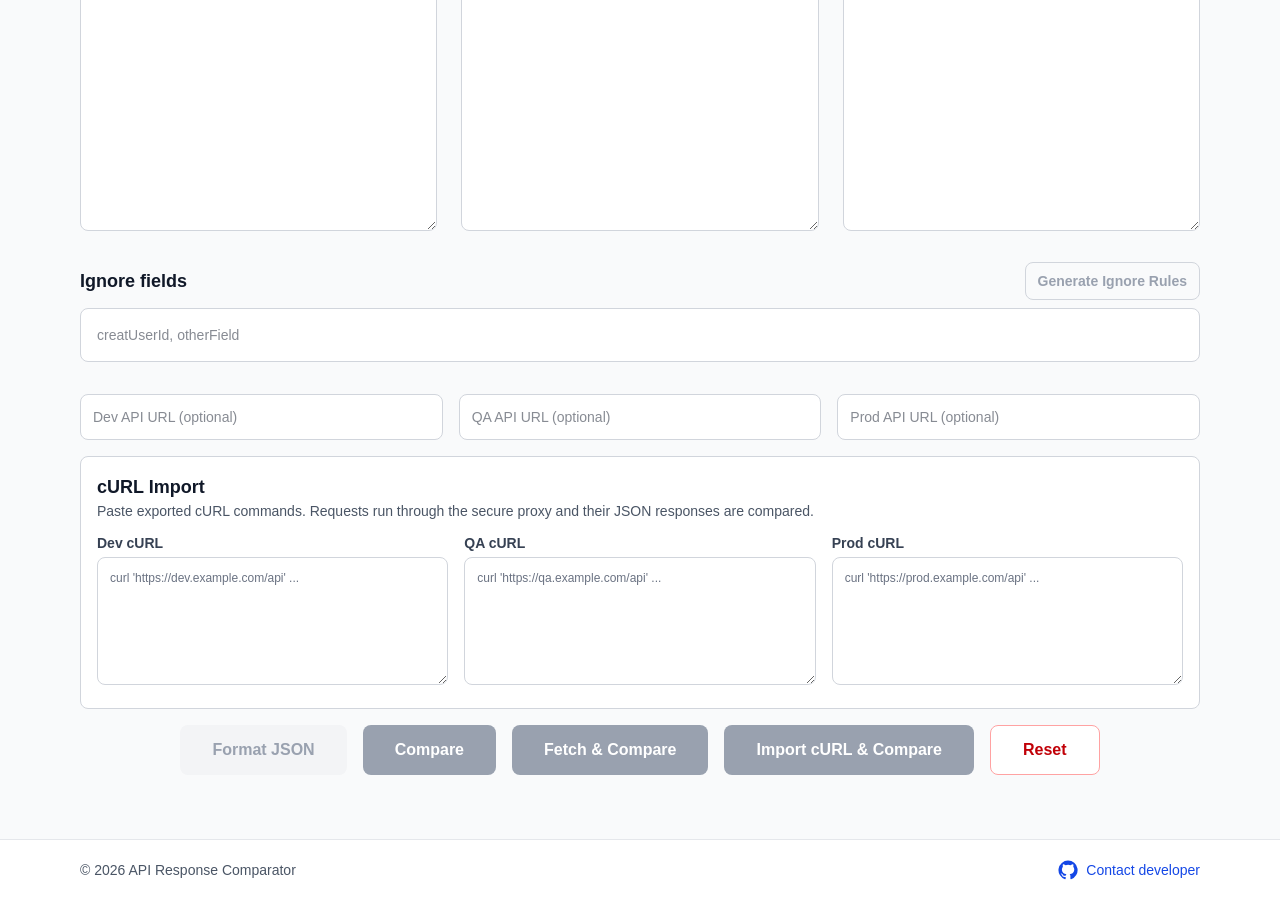
Test: Home › clears cURL input independently
This screenshot has width=1280, height=900.
(page scrolled)
Type "curl 'https://dev.test'" into the text box labelled "Dev cURL" at {"x": 273, "y": 621}, box [97,557,448,685]
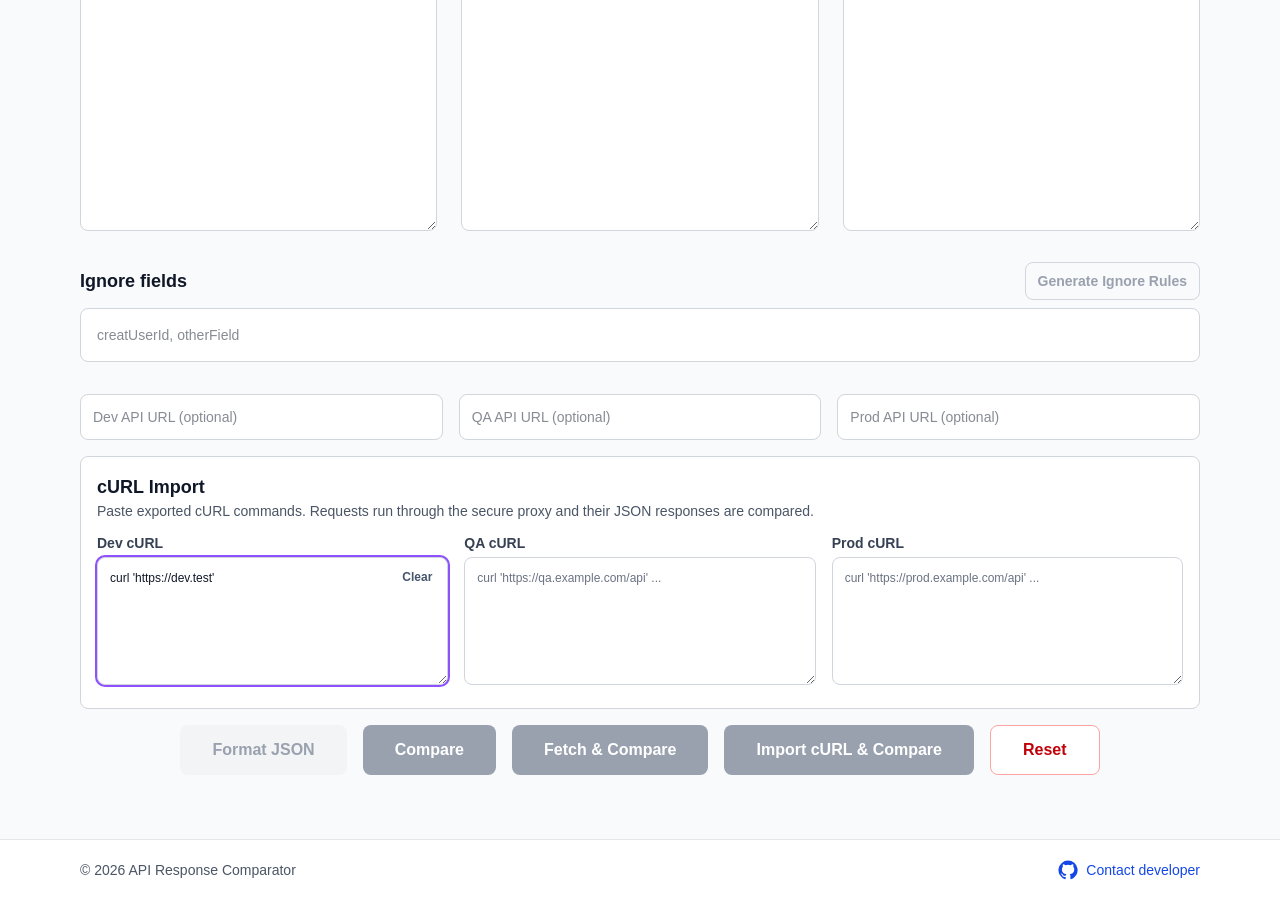
Type "curl 'https://qa.test'" into the text box labelled "QA cURL" at {"x": 640, "y": 621}, box [464,557,816,685]
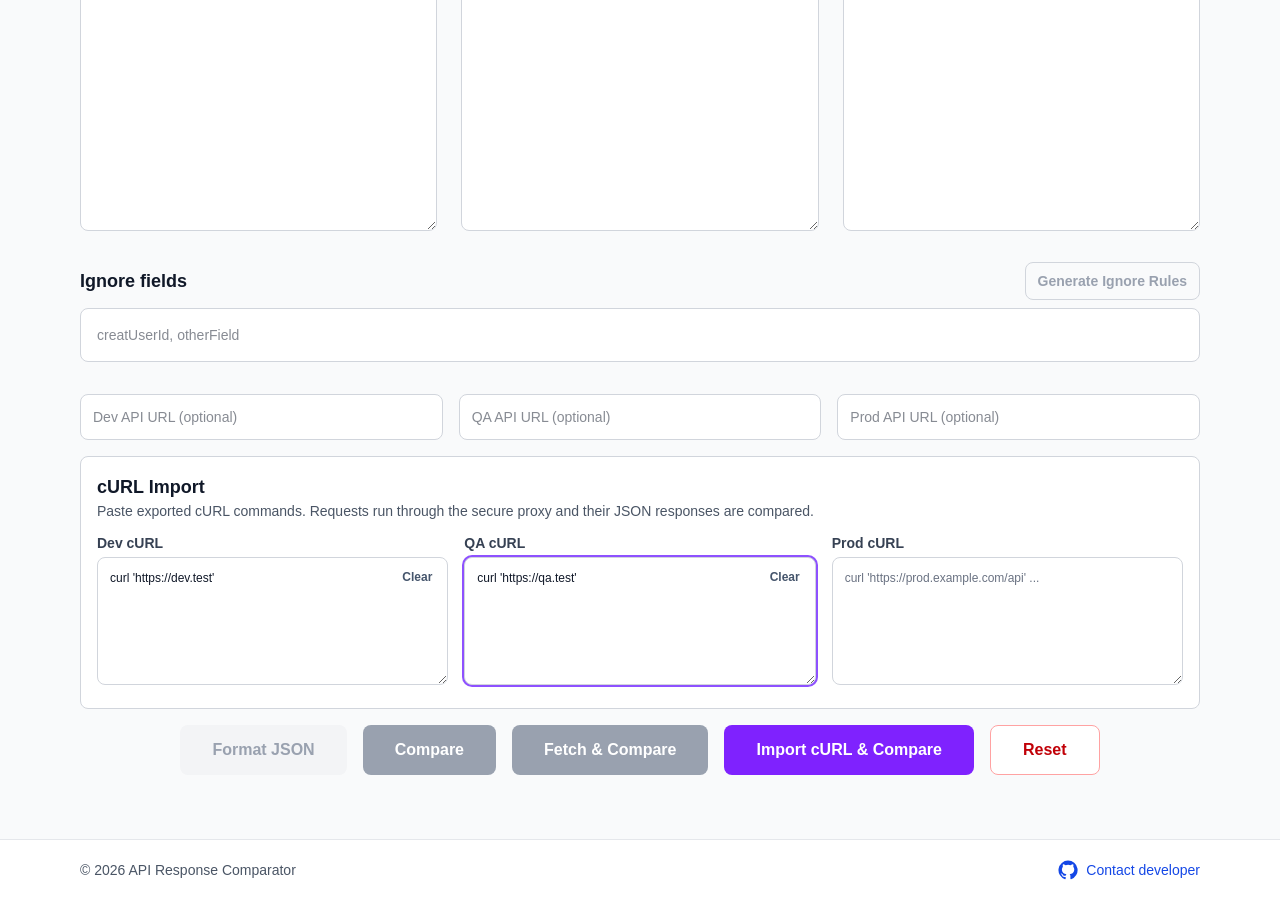
Click the button with aria-label "Clear Dev cURL" at {"x": 417, "y": 577}, box [394,565,440,589]
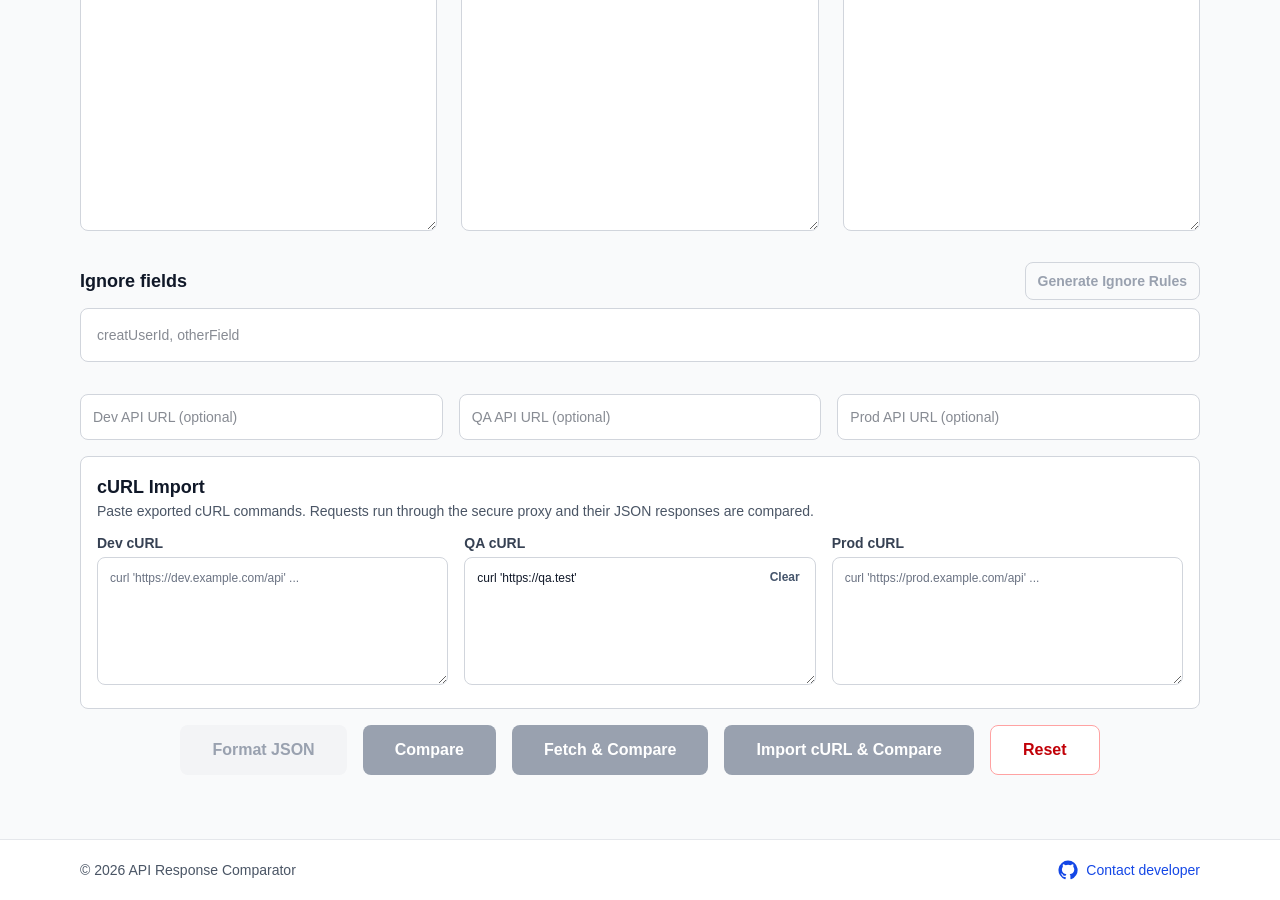
Check: the text box labelled "Dev cURL" is empty, box [97,557,448,685]
